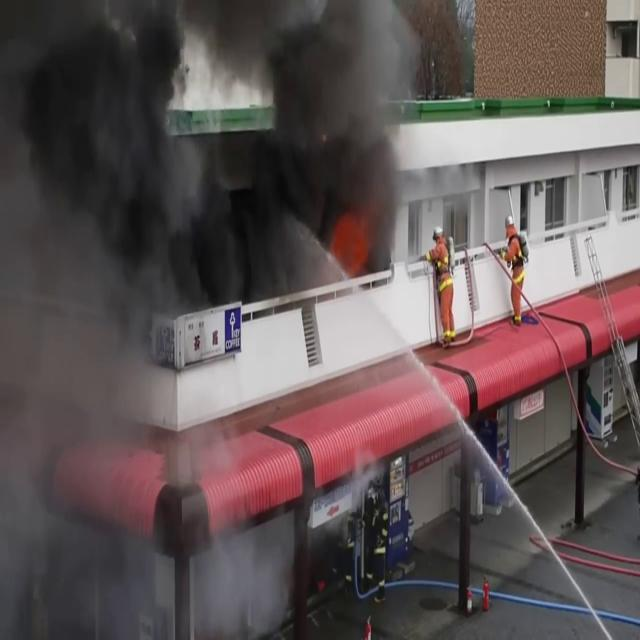Smoke: (0, 0, 429, 324)
